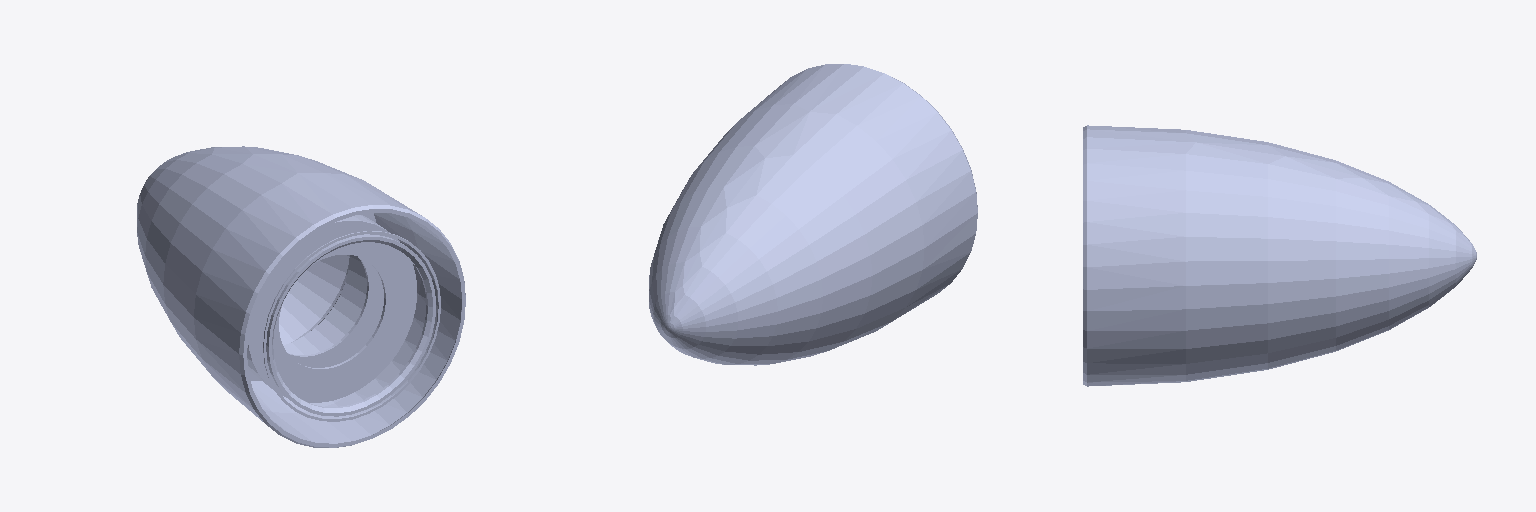
The model's file is propeller_hub.obj.
3 renders of one model, left to right at view 1: azimuth 30°, elevation 25°; view 2: azimuth 150°, elevation 25°; view 3: azimuth 270°, elevation 25°, orthographic.
Visible parts, largest first — view 1: Turbine Propeller Hub-2, Turbine Propeller Hub-1, Turbine Propeller Hub; view 2: Turbine Propeller Hub-2; view 3: Turbine Propeller Hub-2.
Boxes of the visible parts, box(x1,y1,x2,y2) form: Turbine Propeller Hub-2: box(137, 146, 465, 447); Turbine Propeller Hub-1: box(266, 234, 435, 416); Turbine Propeller Hub: box(263, 231, 440, 421); Turbine Propeller Hub-2: box(649, 64, 977, 365); Turbine Propeller Hub-2: box(1083, 125, 1476, 386).
Bounding box in the file's own units: 1840 × 1840 × 2770.